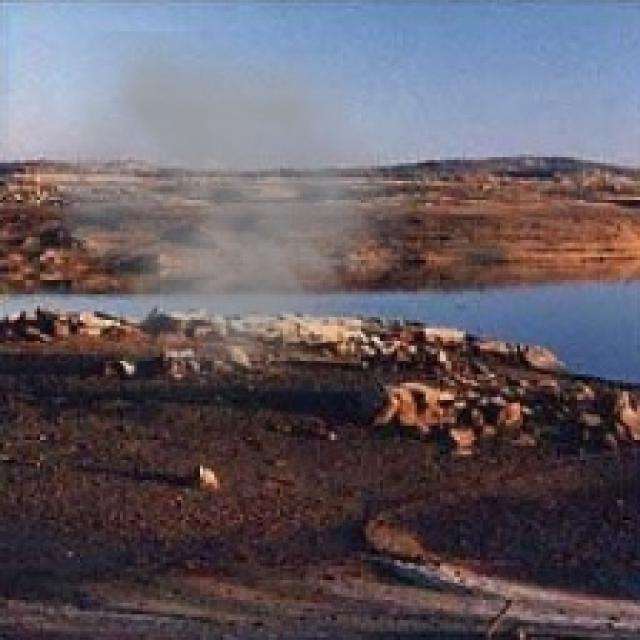Smoke: (22, 32, 428, 414)
